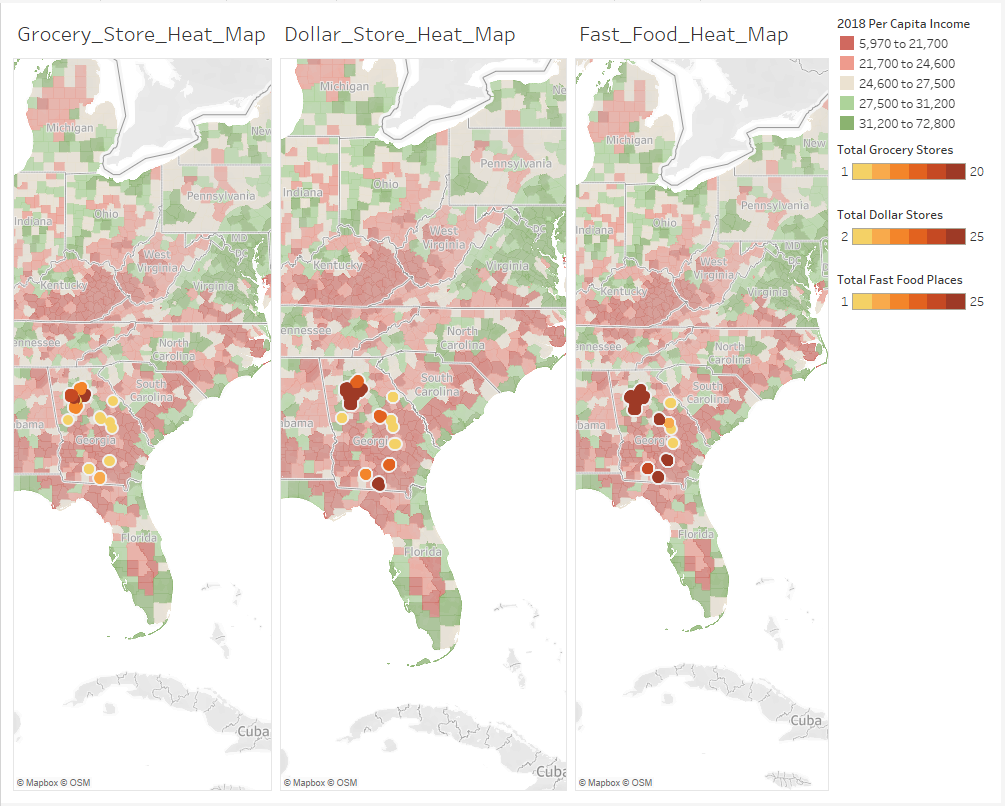

The dashboard page shown, as its layout file describes it:
{"tool":"tableau","page":{"name":"Heat Map Comparison","canvas":[1000,800],"ordinal":0},"visuals":[{"type":"worksheet","title":"Grocery_Store_Heat_Map","mark":"Automatic","rows":["Store_Lat"],"cols":["Store_Long"],"box":[8,8,267.2,784]},{"type":"worksheet","title":"Dollar_Store_Heat_Map","mark":"Automatic","rows":["Store_Lat (county_dollar_store_final.csv)"],"cols":["Store_Long (county_dollar_store_final.csv)"],"box":[275.2,8,294.8,784]},{"type":"worksheet","title":"Fast_Food_Heat_Map","mark":"Automatic","rows":["Store_Lat (county_fast_food_final.csv)"],"cols":["Store_Long (county_fast_food_final.csv)"],"box":[570,8,262,784]},{"type":"legend","title":"Grocery_Store_Heat_Map","box":[832,8,160,126]},{"type":"legend","title":"Grocery_Store_Heat_Map","param":"[federated.0huhagd0thqpzg14bvlka0dq6hxi].[attr:Total_Grocery_Stores:qk]","box":[832,134,160,65]},{"type":"legend","title":"Dollar_Store_Heat_Map","param":"[federated.0huhagd0thqpzg14bvlka0dq6hxi].[attr:Total_Dollar_Stores:qk]","box":[832,199,160,65]},{"type":"legend","title":"Fast_Food_Heat_Map","param":"[federated.0huhagd0thqpzg14bvlka0dq6hxi].[attr:Total_Fast_Food_Places:qk]","box":[832,264,160,65]}]}

Visuals, with their boxes in screenshot pixels (x1, y1, x2, y2), scaled from the page's 1000x800 canvas onto the 1005x806 screenshot:
"Grocery_Store_Heat_Map" worksheet: BBox(8, 8, 277, 798)
"Dollar_Store_Heat_Map" worksheet: BBox(277, 8, 573, 798)
"Fast_Food_Heat_Map" worksheet: BBox(573, 8, 836, 798)
"Grocery_Store_Heat_Map" legend: BBox(836, 8, 997, 135)
"Grocery_Store_Heat_Map" legend: BBox(836, 135, 997, 200)
"Dollar_Store_Heat_Map" legend: BBox(836, 200, 997, 266)
"Fast_Food_Heat_Map" legend: BBox(836, 266, 997, 331)
